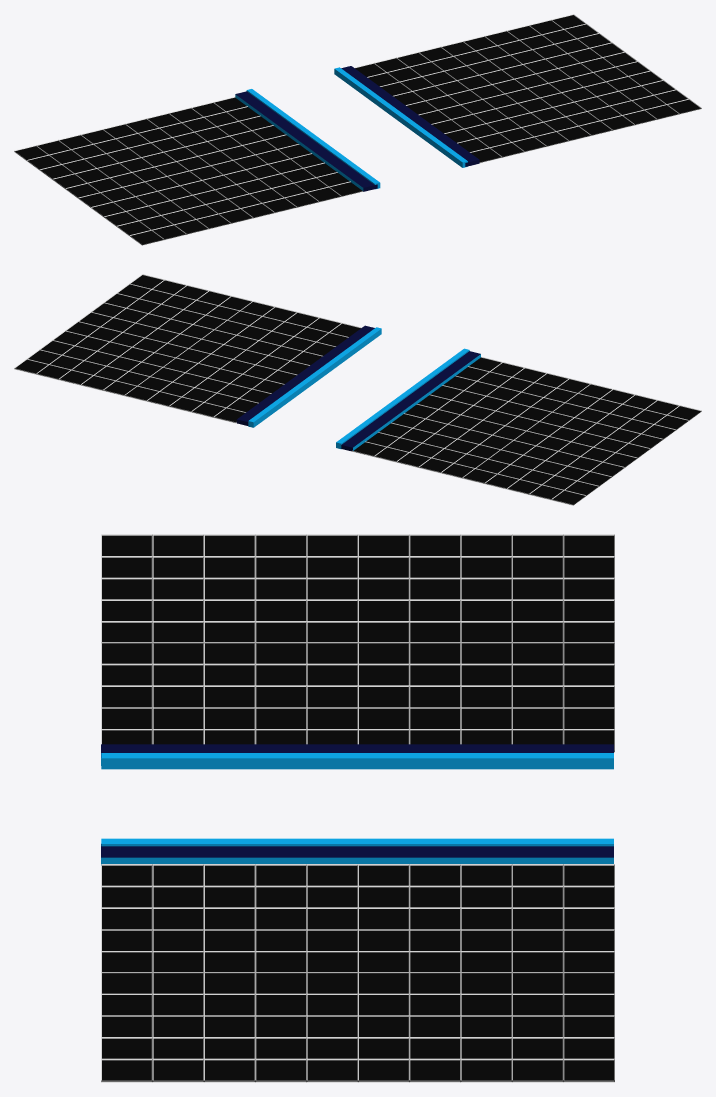
Rendered from SAMPLEnew_platform_empty_field_.fbx.
3 renders of one model, top to bottom at view 1: azimuth 30°, elevation 25°; view 2: azimuth 150°, elevation 25°; view 3: azimuth 270°, elevation 25°, orthographic. The views are drawn at different scales.
Visible parts, largest first — view 1: Plane.002, Plane.003, Cube.001; view 2: Plane.002, Plane.003, Cube.001; view 3: Plane.003, Plane.002, Cube.001.
Boxes of the visible parts, x1,y1,x2,y2 form: Plane.002: (14,97,363,245); Plane.003: (354,14,701,163); Cube.001: (235,66,479,191); Plane.002: (352,357,701,505); Plane.003: (14,274,361,423); Cube.001: (236,325,480,451); Plane.003: (101,864,614,1082); Plane.002: (101,534,614,752); Cube.001: (101,744,613,865).
Size of the model in its own units: 4026 by 38.6 by 1601.
